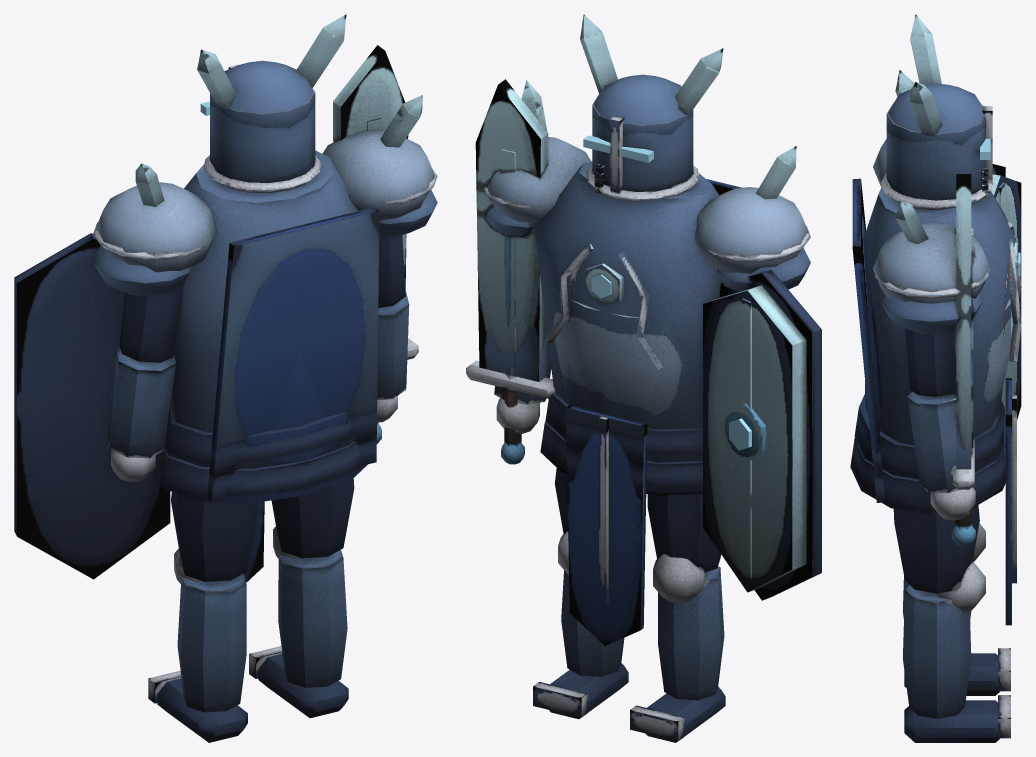
The model's file is elite_glacier_knight.fbx.
3 views of the same model, side by side, from view 1: azimuth 30°, elevation 25°; view 2: azimuth 150°, elevation 25°; view 3: azimuth 270°, elevation 25° (orthographic). The views are drawn at different scales.
Parts seen in each view (by area): view 1: Body, ForearmL, Head, ArmL, KneeL, KneeR, ArmR, ForearmR, LegL, LegR; view 2: Body, ForearmL, ForearmR, Head, KneeL, ArmL, KneeR, ArmR, LegL, Head_Glow_Frost, LegR, ForearmL_Glow_Frost; view 3: Body, Head, KneeR, ArmR, ForearmR, LegR, ForearmL, KneeL, ArmL.
Boxes of the visible parts, bbox=[...] form: Body: bbox=[160, 150, 379, 582]; ForearmL: bbox=[14, 233, 176, 579]; Head: bbox=[197, 14, 346, 193]; ArmL: bbox=[93, 163, 216, 362]; KneeL: bbox=[148, 548, 247, 742]; KneeR: bbox=[249, 526, 348, 718]; ArmR: bbox=[322, 95, 437, 307]; ForearmR: bbox=[333, 45, 418, 443]; LegL: bbox=[171, 492, 257, 581]; LegR: bbox=[271, 478, 354, 558]; Body: bbox=[534, 161, 741, 645]; ForearmL: bbox=[703, 270, 821, 600]; ForearmR: bbox=[466, 79, 555, 464]; Head: bbox=[580, 14, 723, 201]; KneeL: bbox=[630, 553, 725, 742]; ArmL: bbox=[694, 146, 810, 291]; KneeR: bbox=[533, 531, 628, 719]; ArmR: bbox=[483, 80, 591, 237]; LegL: bbox=[647, 493, 720, 572]; Head_Glow_Frost: bbox=[583, 135, 653, 162]; LegR: bbox=[554, 468, 568, 534]; ForearmL_Glow_Frost: bbox=[729, 418, 751, 450]; Body: bbox=[850, 178, 1021, 625]; Head: bbox=[880, 14, 993, 209]; KneeR: bbox=[903, 561, 1010, 742]; ArmR: bbox=[873, 201, 990, 396]; ForearmR: bbox=[907, 174, 975, 546]; LegR: bbox=[893, 505, 979, 593]; ForearmL: bbox=[991, 164, 1021, 419]; KneeL: bbox=[903, 523, 1010, 695]; ArmL: bbox=[873, 70, 914, 187].
Size of the model in its own units: 514 by 890 by 208.
Materials: 2 (1 with a texture image).
